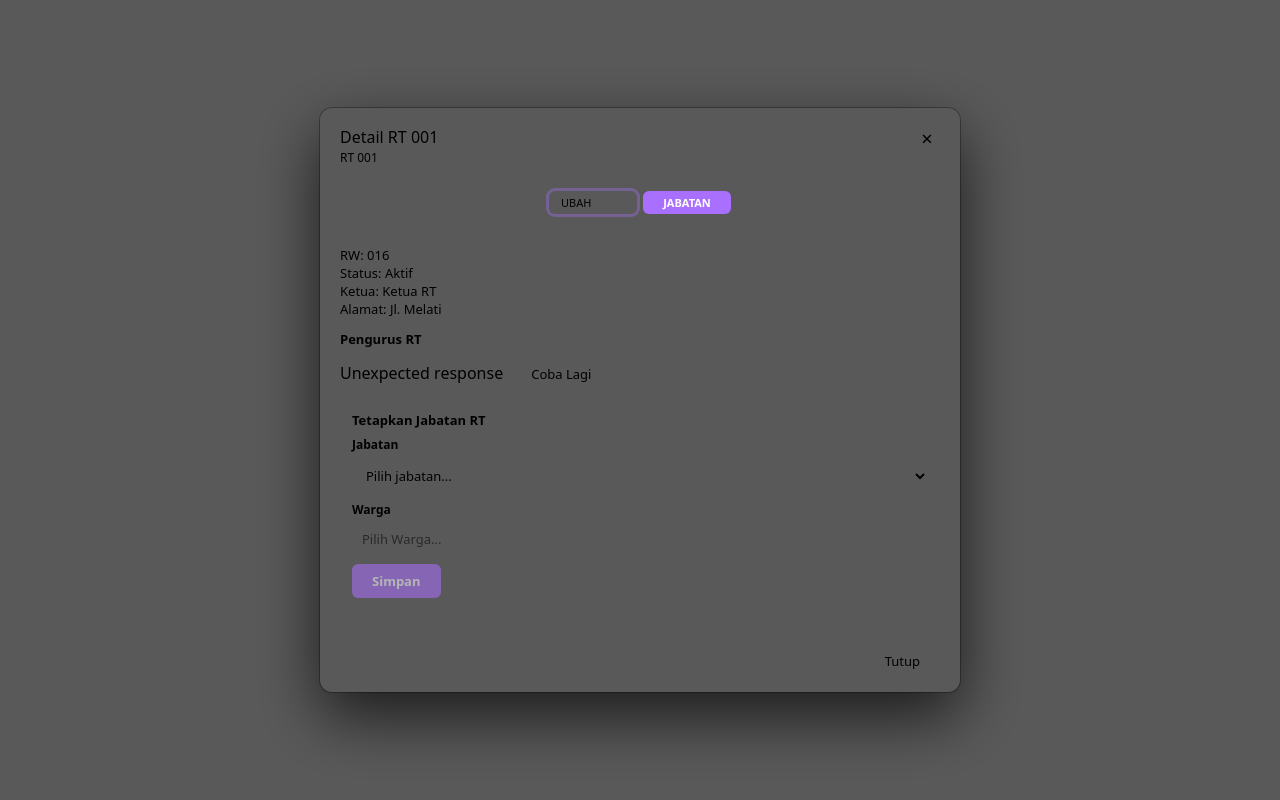
Test: RtDetailModal › shows a loading state and supports retry after the membership request fails
The image size is (1280, 800).
Check: the text "Unexpected response" is shown, box [340,362,503,384]
Click the button "Coba Lagi": point(561, 374) [511,357,611,391]
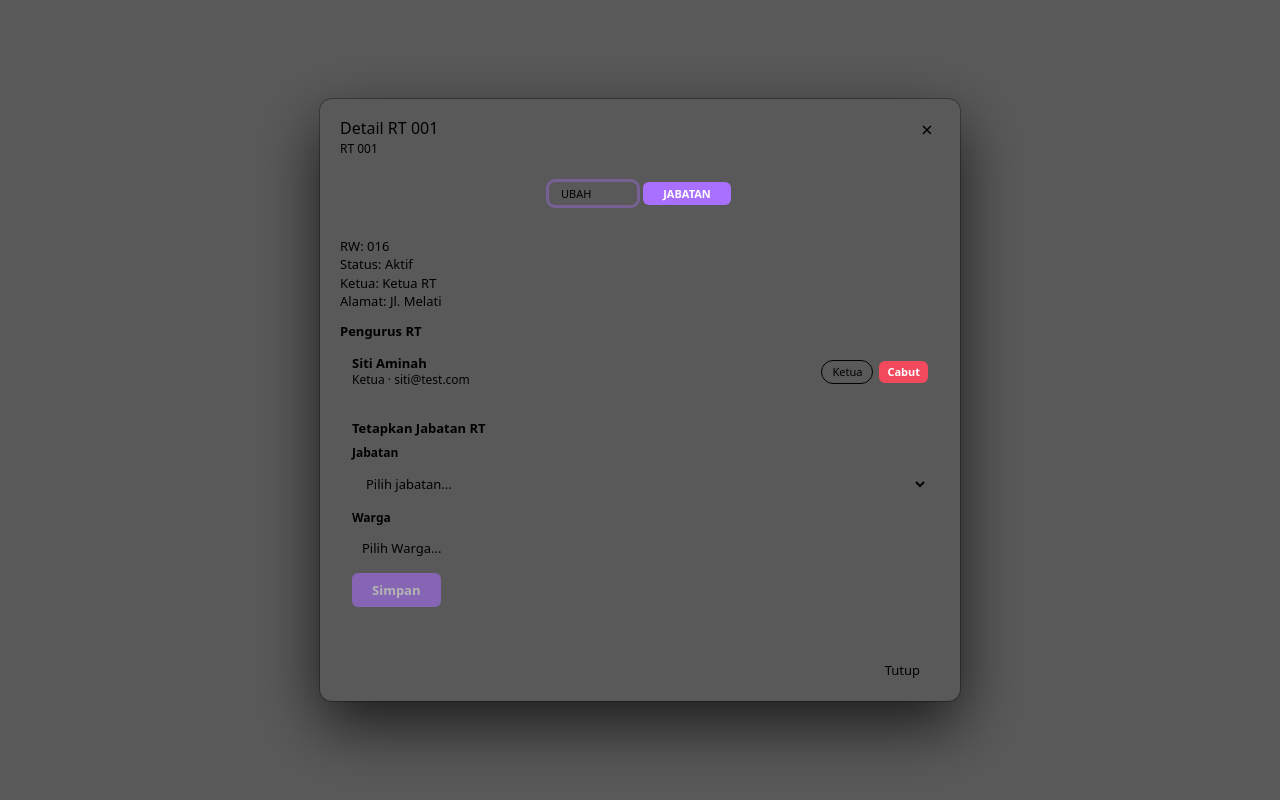
Check: the text "Siti Aminah" is shown, box [352,354,427,372]
